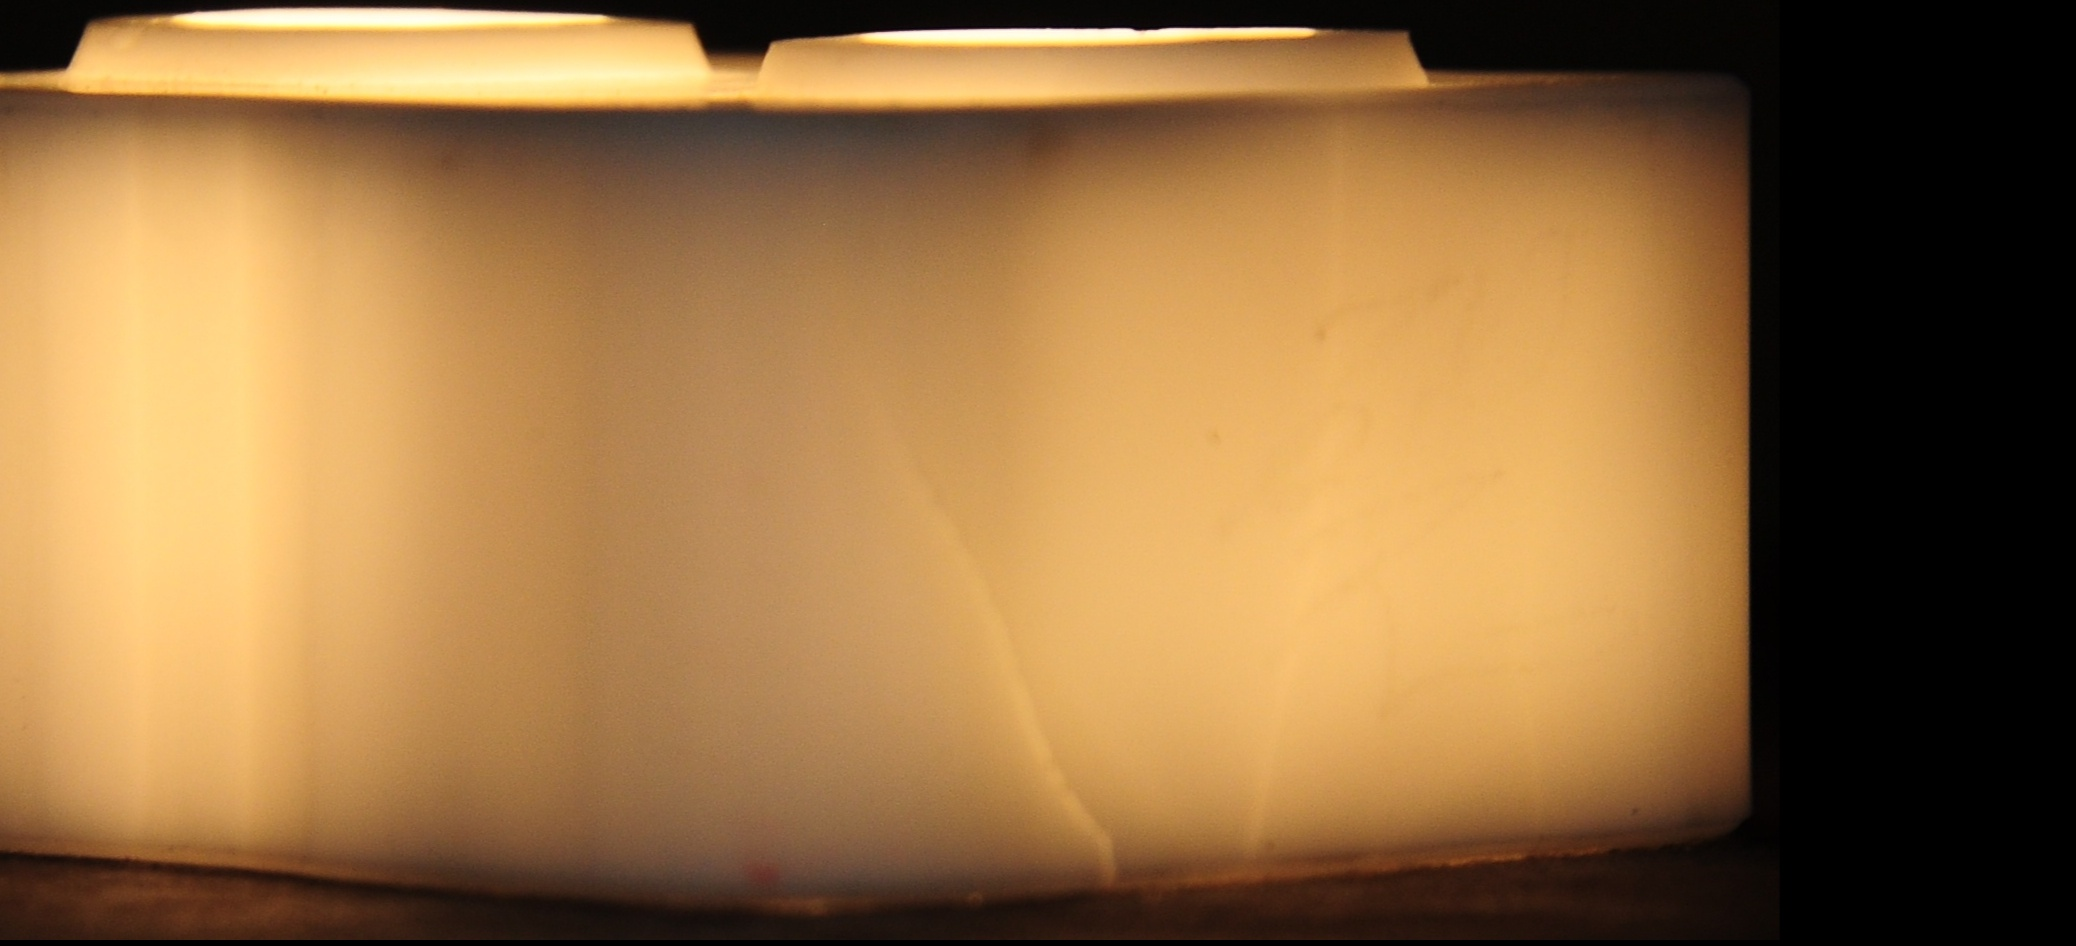flaw: (1245, 99, 1319, 863), (887, 397, 1038, 689), (1014, 692, 1145, 897)
